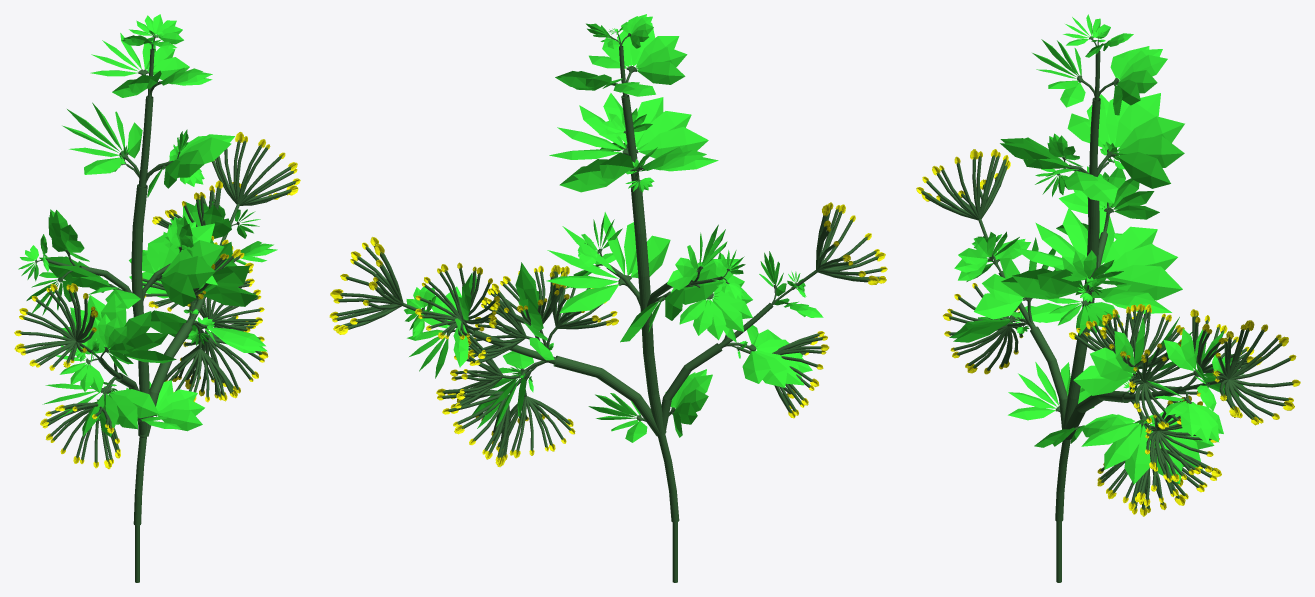
File: small-yellow-flower.obj
The picture shows the model from 3 angles, left to right: view 1: azimuth 30°, elevation 25°; view 2: azimuth 150°, elevation 25°; view 3: azimuth 270°, elevation 25°; orthographic projection. The views are drawn at different scales.
Visible parts, largest first — view 1: Newplan; view 2: Newplan; view 3: Newplan.
Boxes of the visible parts, x1=… form: Newplan: x1=14, y1=14, x2=300, y2=582; Newplan: x1=329, y1=14, x2=887, y2=582; Newplan: x1=916, y1=14, x2=1300, y2=582.
Size of the model in its own units: 412 by 526 by 320.
